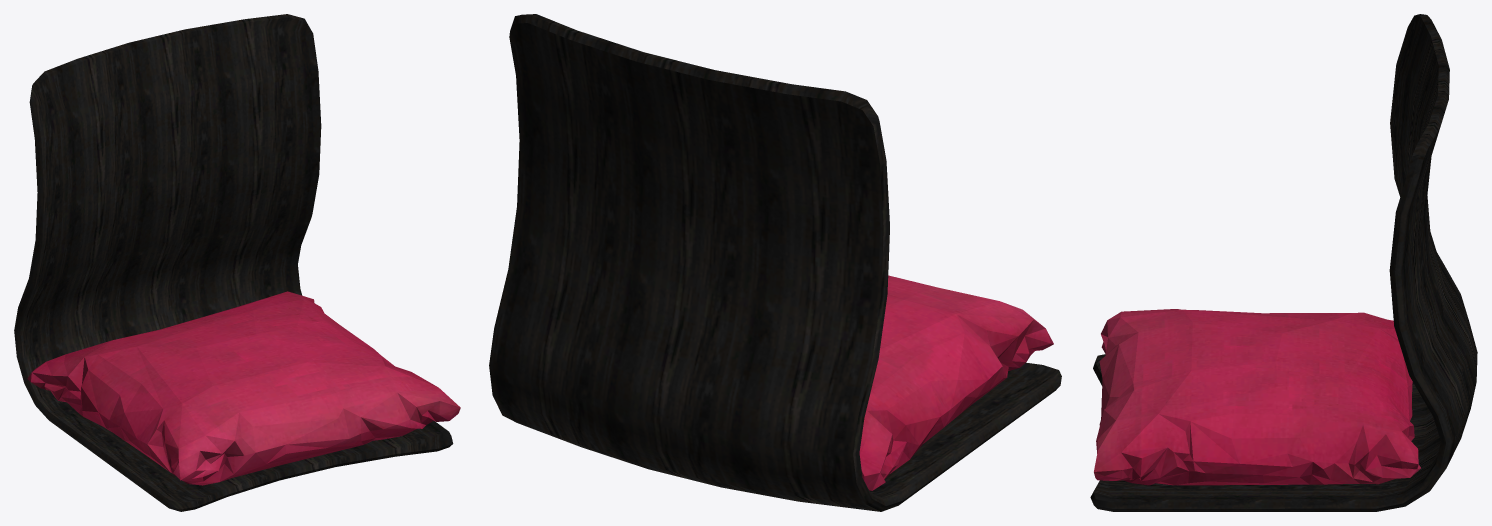
Rendered from Chair1.a.fbx.
3 renders of one model, left to right at view 1: azimuth 30°, elevation 25°; view 2: azimuth 150°, elevation 25°; view 3: azimuth 270°, elevation 25°, orthographic. The views are drawn at different scales.
Parts seen in each view (by area): view 1: Group 0; view 2: Group 0; view 3: Group 0.
Part boxes in pixels (x1,y1,x2,y2): Group 0: (14,14,460,511); Group 0: (489,14,1061,511); Group 0: (1090,14,1477,511).
Size of the model in its own units: 61.44 by 67.04 by 65.64.
Materials: 2 (2 with a texture image).
